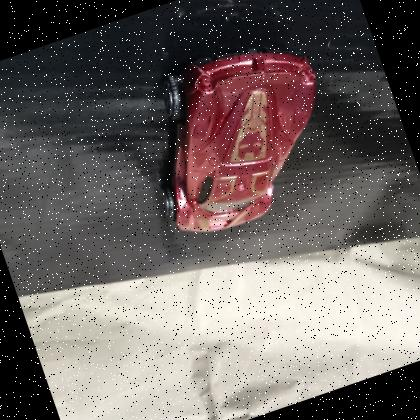Car: (114, 14, 364, 251)
